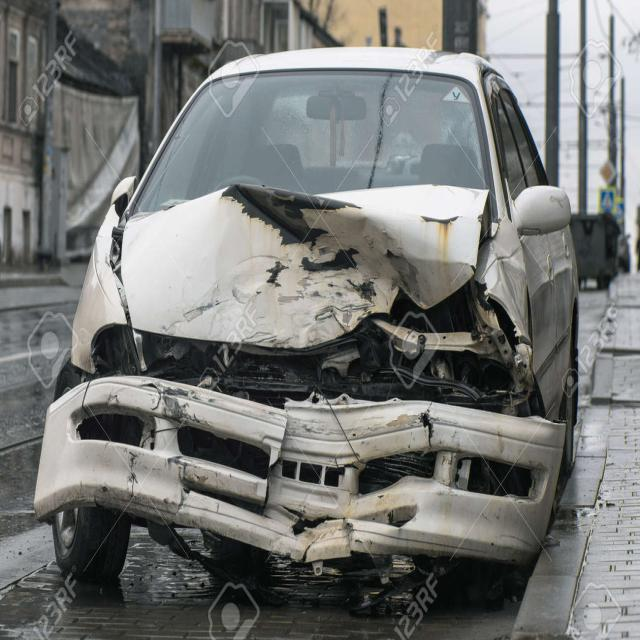Severe Damage: (72, 173, 540, 572)
